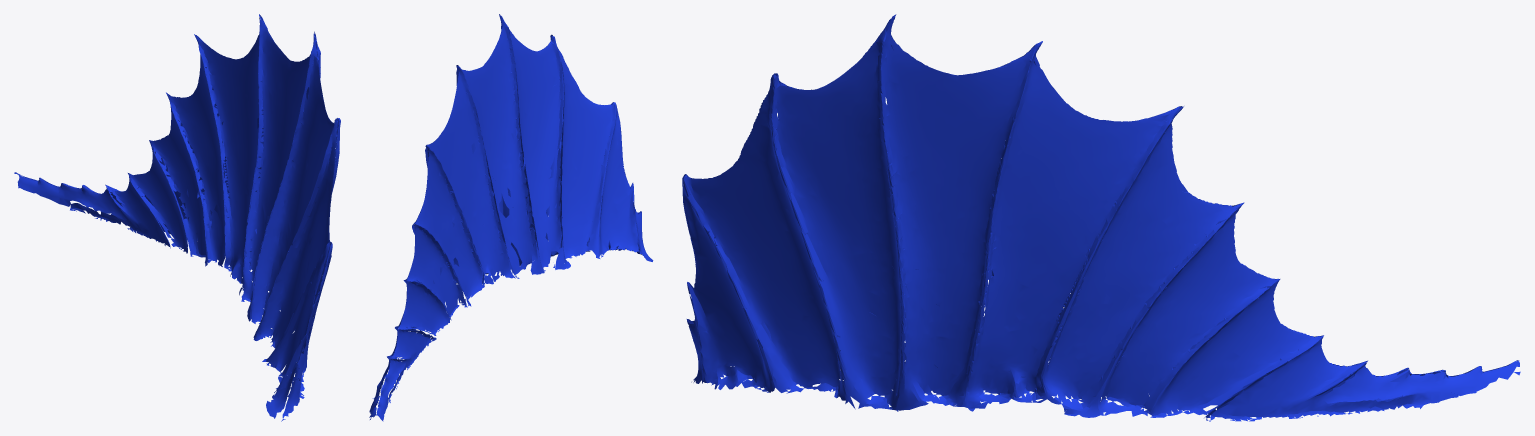
Rendered from FinAnimationFinal.fbx.
3 views of the same model, side by side, from view 1: azimuth 30°, elevation 25°; view 2: azimuth 150°, elevation 25°; view 3: azimuth 270°, elevation 25° (orthographic). The views are drawn at different scales.
Visible parts, largest first — view 1: Object_2.002; view 2: Object_2.002; view 3: Object_2.002.
Boxes of the visible parts, left/top/right/bottom form: Object_2.002: left=14, top=14, right=340, bottom=421; Object_2.002: left=369, top=14, right=653, bottom=421; Object_2.002: left=682, top=14, right=1520, bottom=421.
Size of the model in its own units: 25.95 by 66.42 by 115.
